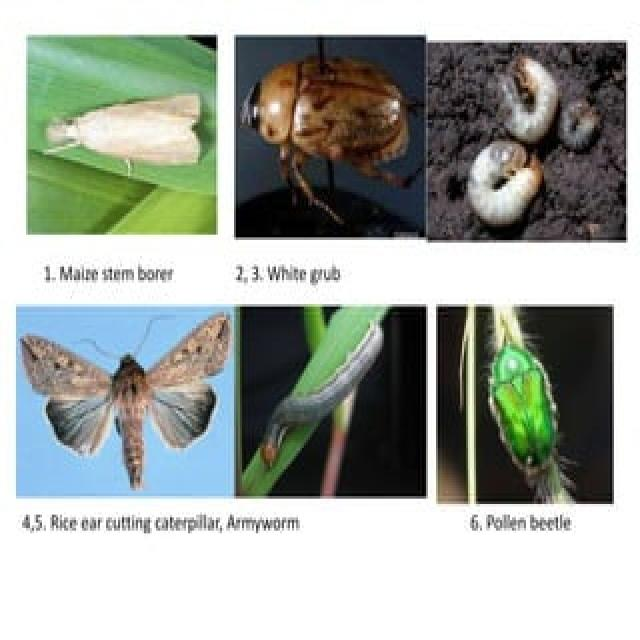cornborer-Larva-: (254, 316, 392, 471)
